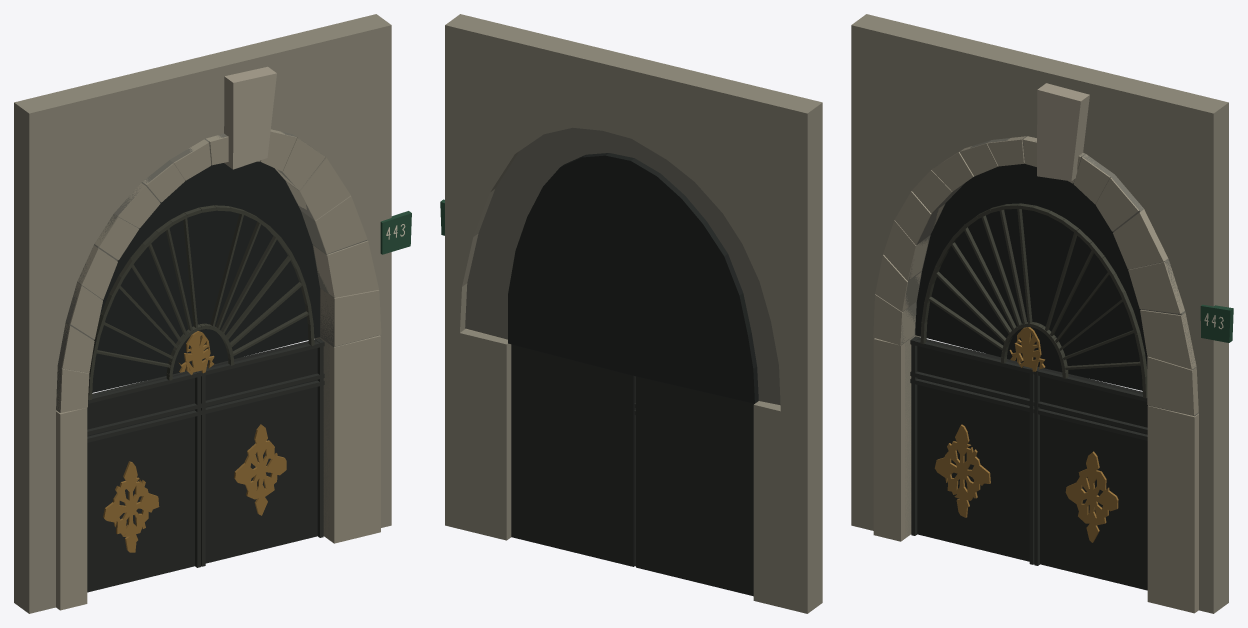
File: huangpu-hongyu-textile-no443-brass-fan-gate-lod.glb
3 renders of one model, left to right at view 1: azimuth 30°, elevation 25°; view 2: azimuth 150°, elevation 25°; view 3: azimuth 330°, elevation 25°, orthographic.
Visible parts, largest first — view 1: 鸿裕纺织有限公司大楼443号券门与镂空铜饰; view 2: 鸿裕纺织有限公司大楼443号券门与镂空铜饰; view 3: 鸿裕纺织有限公司大楼443号券门与镂空铜饰.
Boxes of the visible parts, bbox=[...] form: 鸿裕纺织有限公司大楼443号券门与镂空铜饰: bbox=[14, 14, 411, 613]; 鸿裕纺织有限公司大楼443号券门与镂空铜饰: bbox=[440, 14, 822, 613]; 鸿裕纺织有限公司大楼443号券门与镂空铜饰: bbox=[851, 14, 1233, 613].
Bounding box in the file's own units: 3.4 × 4.26 × 0.375.
